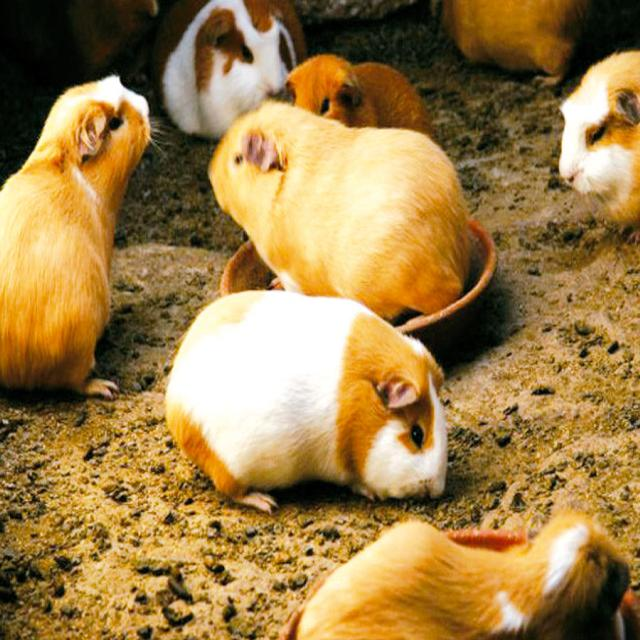guinea pig: (156, 264, 461, 522), (205, 100, 473, 318), (2, 62, 154, 410), (147, 0, 310, 142)
